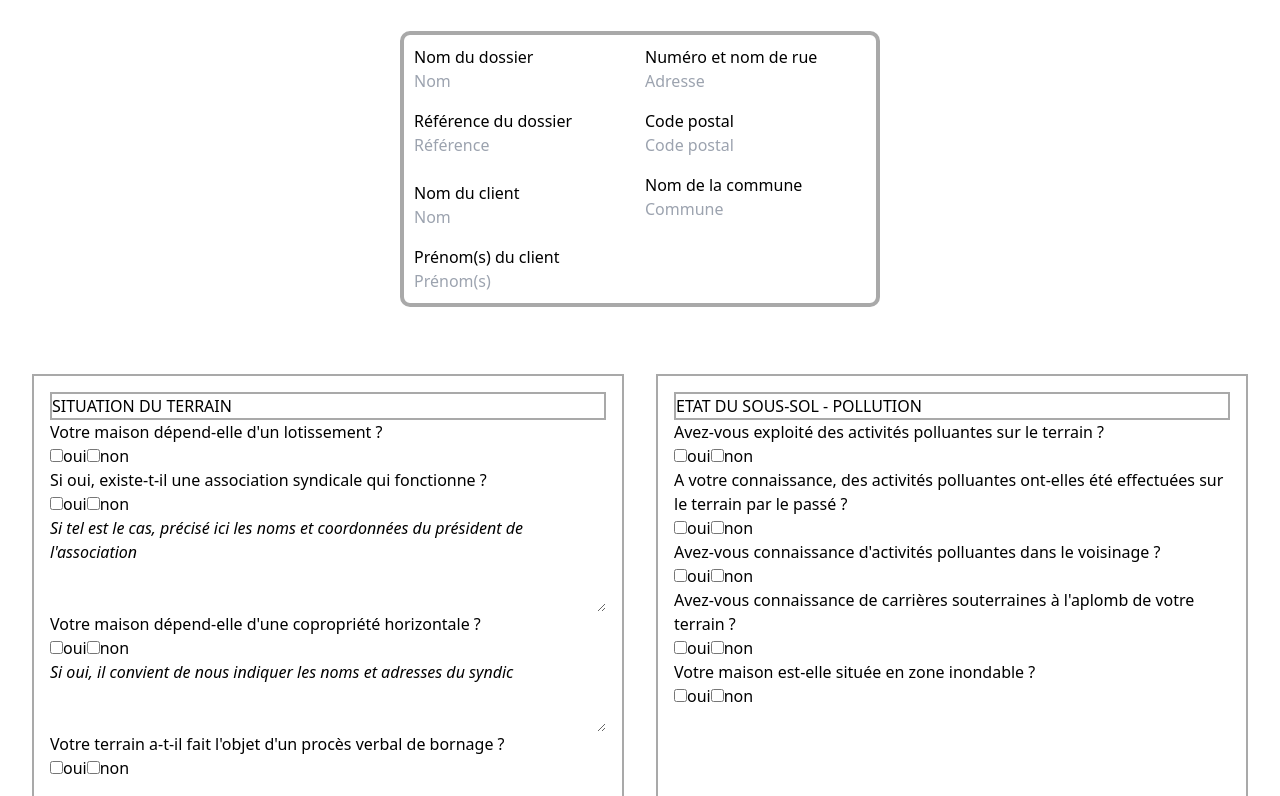
Test: CustomerQuiz component integration testing › Filling ClientName input should display the input value in CustomerQuizSummary
This screenshot has width=1280, height=796.
Type "Doe" into the field with test id "clientNom".
click(530, 217); type("Doe")  # box x1=414 y1=205 x2=645 y2=229
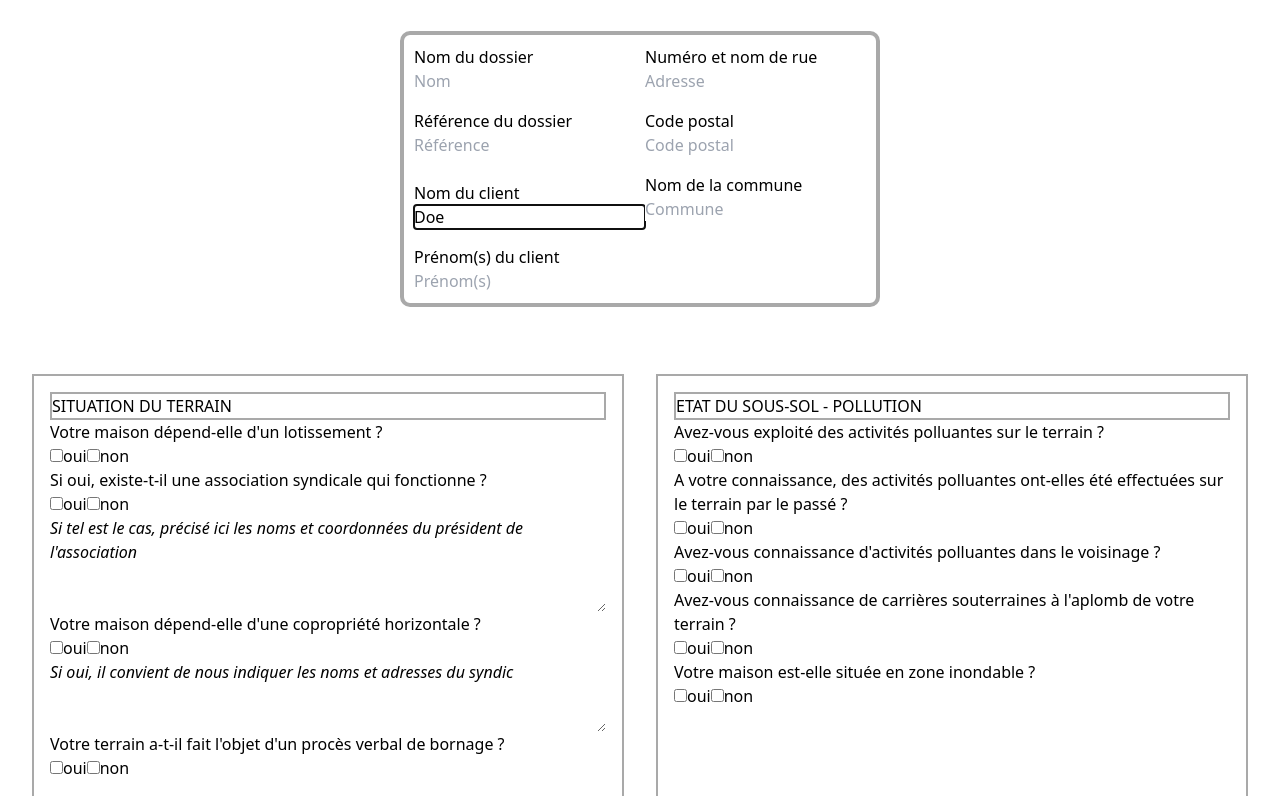
Type "John" into the field with test id "clientPrenom".
click(530, 281); type("John")  # box x1=414 y1=269 x2=645 y2=293
(page scrolled)
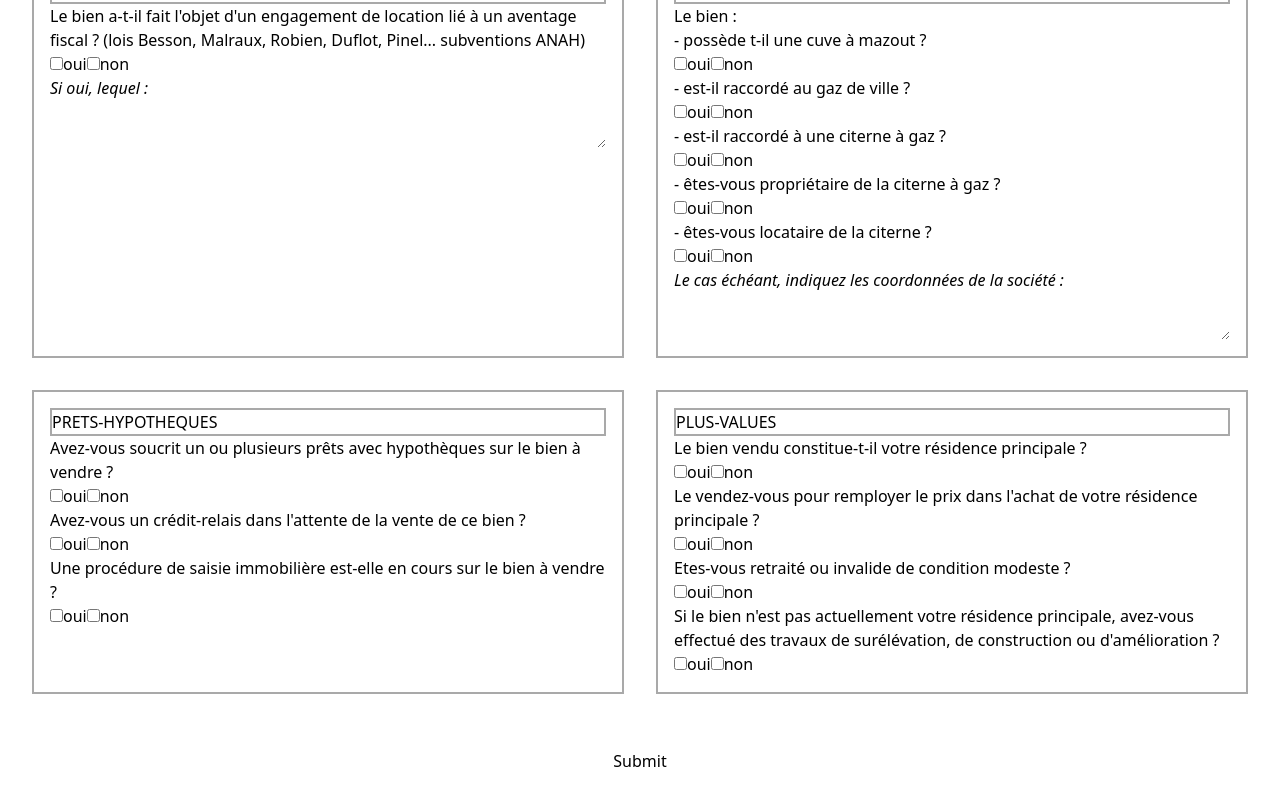
Click the button "Submit".
click(640, 761)  # box x1=555 y1=726 x2=725 y2=795
(page scrolled)
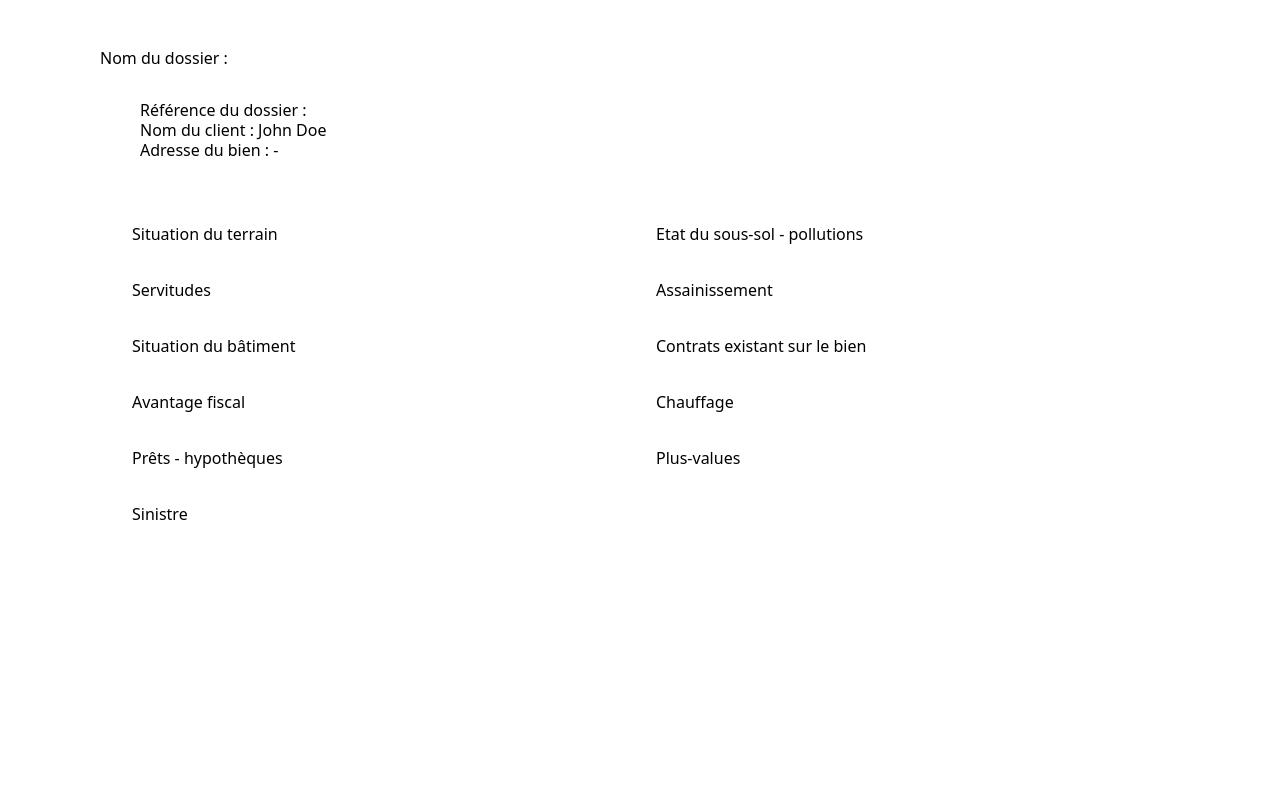
expect the text "Nom du client : John Doe" is shown: met, box x1=130 y1=120 x2=336 y2=140
